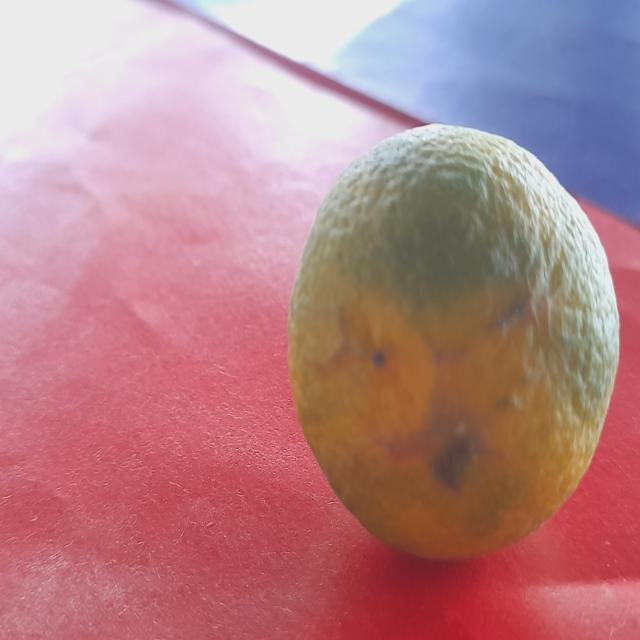greening: (290, 115, 626, 555)
